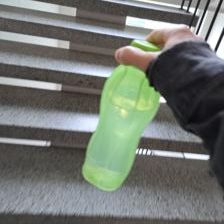bottle: (80, 38, 166, 191)
